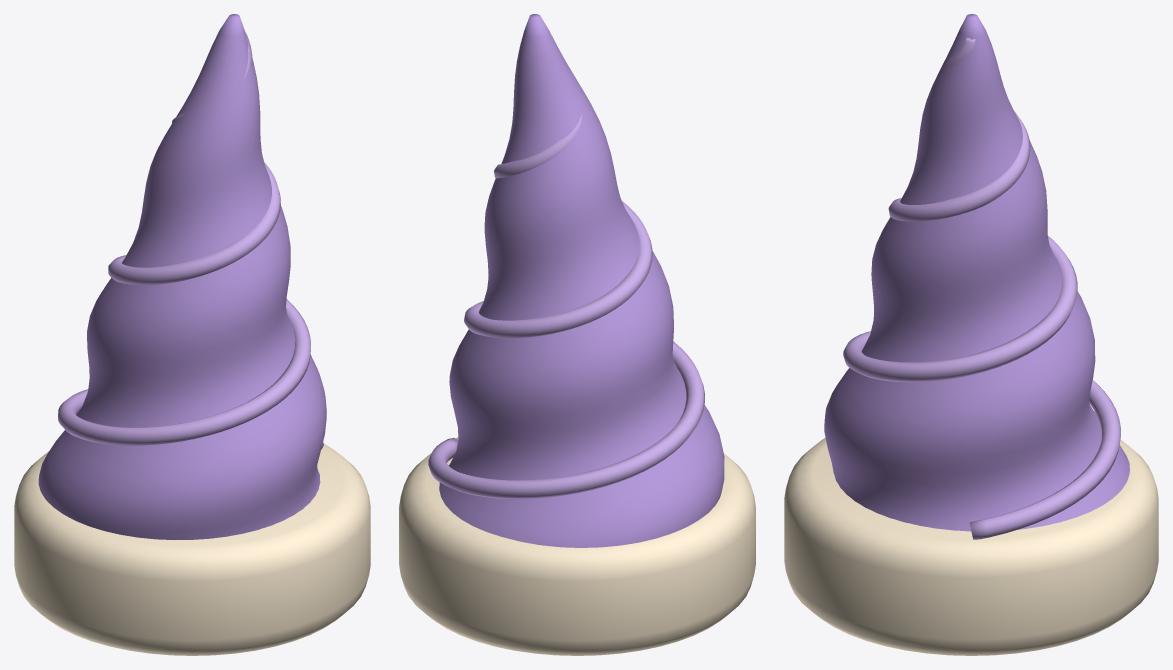
File: horn-CfdwCXVg.glb
The picture shows the model from 3 angles, left to right: view 1: azimuth 30°, elevation 25°; view 2: azimuth 150°, elevation 25°; view 3: azimuth 270°, elevation 25°; orthographic projection. The views are drawn at different scales.
Visible parts, largest first — view 1: horn_spiral, horn_attachment_base, horn_spiral_ridge; view 2: horn_spiral, horn_attachment_base, horn_spiral_ridge; view 3: horn_spiral, horn_attachment_base, horn_spiral_ridge.
Part boxes in pixels (x1,y1,x2,y2): horn_spiral: (38,14,326,540); horn_attachment_base: (14,443,370,655); horn_spiral_ridge: (58,31,323,449); horn_spiral: (439,14,724,547); horn_attachment_base: (399,437,755,655); horn_spiral_ridge: (428,114,704,498); horn_spiral: (824,14,1129,531); horn_attachment_base: (784,437,1158,655); horn_spiral_ridge: (843,37,1120,539).
Bounding box in the file's own units: 0.132 × 0.23 × 0.132.
